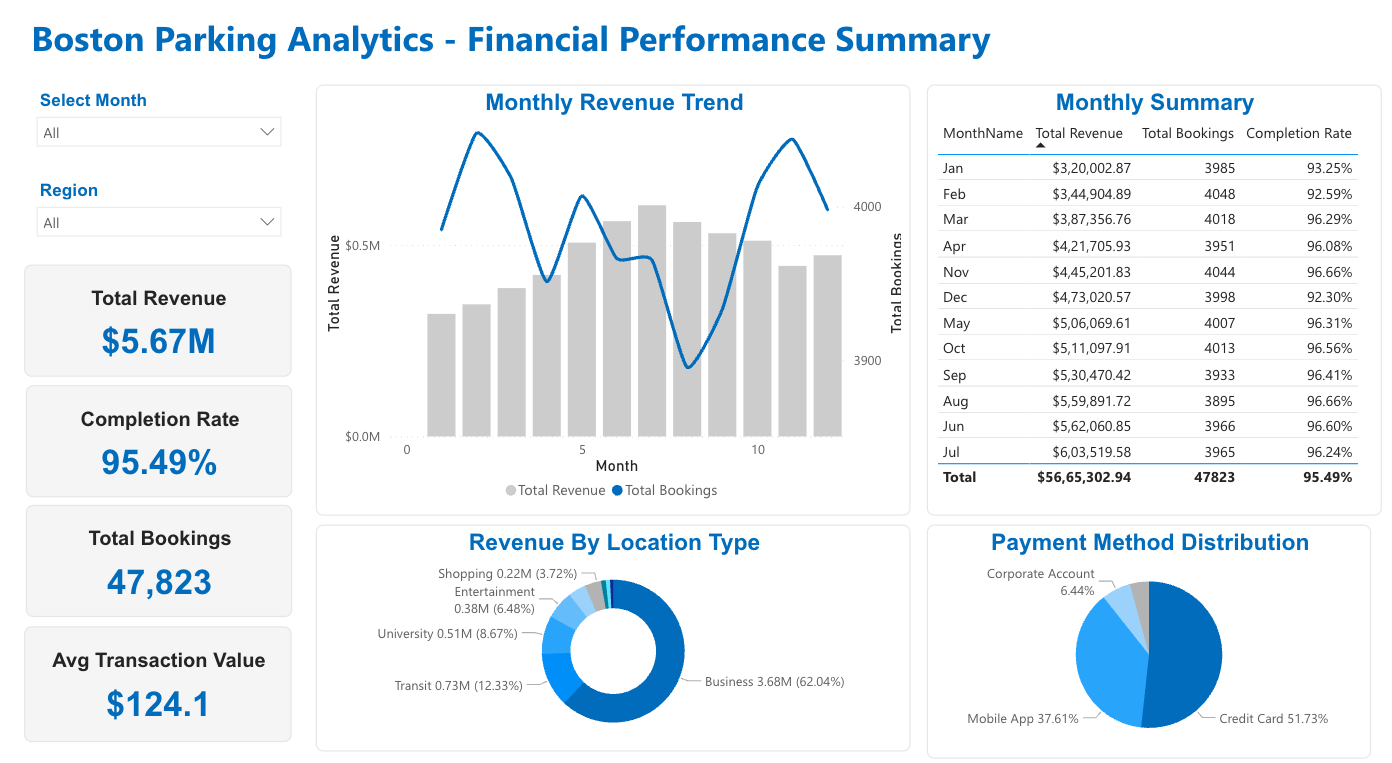

Layout of this report page (visuals, bound fields, positions):
{"tool":"powerbi","page":{"name":"Financial Performance ","canvas":[1280,720],"ordinal":0},"visuals":[{"type":"card","title":"Total Revenue","fields":{"Values":["Sum(Payments.Amount)"]},"box":[7.9,255.3,248.7,104.7],"z":0},{"type":"card","title":"Completion Rate","fields":{"Values":["Bookings.Completion Rate"]},"box":[9.2,367.9,247.4,104.7],"z":1000},{"type":"card","title":"Total Bookings","fields":{"Values":["CountNonNull(Bookings.BookingID)"]},"box":[9.2,479.1,247.4,104.7],"z":2000},{"type":"card","title":"Avg Transaction Value","fields":{"Values":["Avg(Payments.Amount)"]},"box":[7.9,591.7,248.7,107.3],"z":3000},{"type":"lineClusteredColumnComboChart","title":"Monthly Revenue Trend","fields":{"Category":["Time.Month"],"Y":["Bookings.Total Revenue"],"Y2":["Bookings.Total Bookings"]},"box":[278.8,87.7,553.7,400.6],"z":4000},{"type":"textbox","box":[9.2,17,983.1,56.3],"z":5000},{"type":"slicer","fields":{"Values":["Time.MonthName"]},"box":[9.2,87.7,247.4,83.8],"z":6000},{"type":"donutChart","title":"Revenue By Location Type","fields":{"Y":["Sum(Bookings.FinalAmount)"],"Category":["Locations.LocationType"]},"box":[278.8,497.5,553.7,210.8],"z":7000},{"type":"pieChart","title":"Payment Method Distribution","fields":{"Y":["CountNonNull(Payments.PaymentID)"],"Category":["Payments.PaymentMethod"]},"box":[847,497.5,413.7,217.3],"z":9000},{"type":"slicer","fields":{"Values":["Locations.Region"]},"box":[9.2,171.5,247.4,83.8],"z":10000},{"type":"tableEx","title":"Monthly Summary","fields":{"Values":["Time.MonthName","Bookings.Total Revenue","Bookings.Total Bookings","Bookings.Completion Rate"]},"box":[847,87.7,422.8,400.6],"z":11000}]}

Visuals, with their boxes in screenshot pixels (x1, y1, x2, y2), scaled from the page's 1280x720 canvas onto the 1392x763 screenshot:
"Total Revenue" card: rect(9, 271, 279, 382)
"Completion Rate" card: rect(10, 390, 279, 501)
"Total Bookings" card: rect(10, 508, 279, 619)
"Avg Transaction Value" card: rect(9, 627, 279, 741)
"Monthly Revenue Trend" lineClusteredColumnComboChart: rect(303, 93, 905, 517)
textbox: rect(10, 18, 1079, 78)
slicer - Time.MonthName: rect(10, 93, 279, 182)
"Revenue By Location Type" donutChart: rect(303, 527, 905, 751)
"Payment Method Distribution" pieChart: rect(921, 527, 1371, 757)
slicer - Locations.Region: rect(10, 182, 279, 271)
"Monthly Summary" tableEx: rect(921, 93, 1381, 517)
